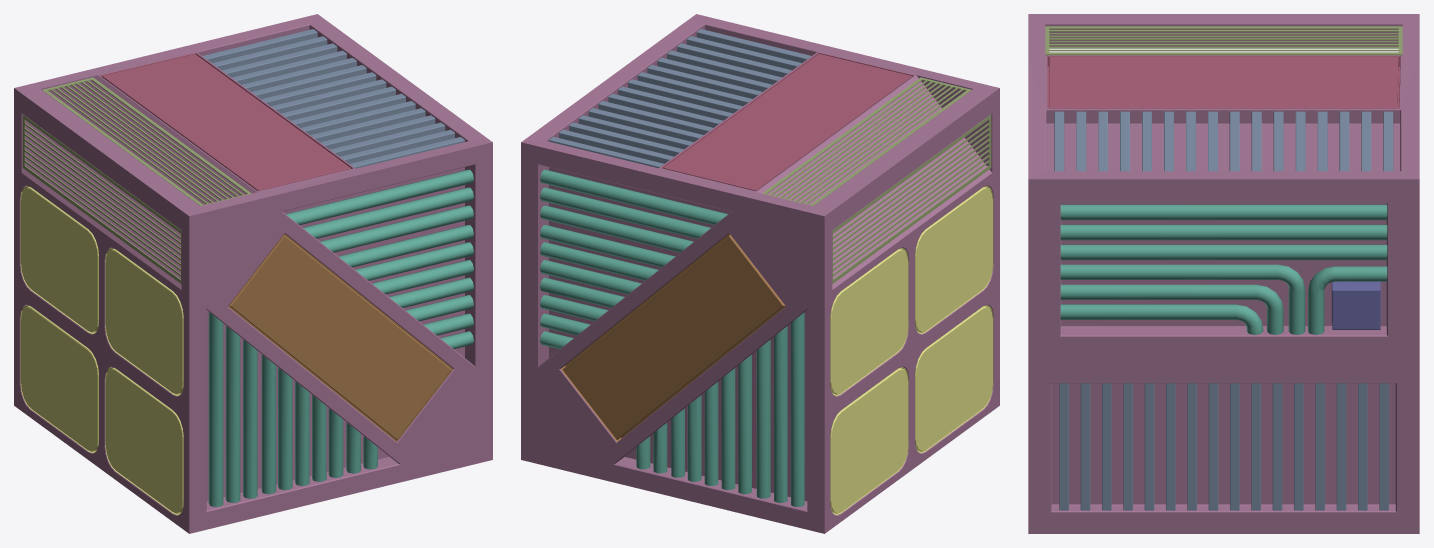
File: obstacle.fbx
3 renders of one model, left to right at view 1: azimuth 30°, elevation 25°; view 2: azimuth 150°, elevation 25°; view 3: azimuth 270°, elevation 25°, orthographic. The views are drawn at different scales.
Parts seen in each view (by area): view 1: obstacle, pipes, panelsQuad, panelsDiagonal, grates, panelsBig, gratesSmall; view 2: obstacle, panelsQuad, pipes, panelsDiagonal, grates, panelsBig, gratesSmall; view 3: obstacle, grates, pipes, panelsBig, gratesSmall, boxSmall.
Boxes of the visible parts, bbox=[...] form: obstacle: bbox=[14, 14, 492, 533]; pipes: bbox=[208, 169, 473, 507]; panelsQuad: bbox=[20, 186, 183, 515]; panelsDiagonal: bbox=[228, 233, 453, 441]; grates: bbox=[202, 29, 464, 168]; panelsBig: bbox=[100, 53, 353, 191]; gratesSmall: bbox=[22, 77, 251, 283]; obstacle: bbox=[521, 14, 999, 533]; panelsQuad: bbox=[830, 186, 993, 515]; pipes: bbox=[540, 169, 804, 506]; panelsDiagonal: bbox=[560, 233, 785, 441]; grates: bbox=[549, 29, 811, 168]; panelsBig: bbox=[661, 52, 913, 191]; gratesSmall: bbox=[762, 77, 991, 283]; obstacle: bbox=[1028, 14, 1419, 533]; grates: bbox=[1054, 111, 1393, 510]; pipes: bbox=[1060, 204, 1387, 334]; panelsBig: bbox=[1047, 56, 1400, 108]; gratesSmall: bbox=[1045, 26, 1402, 55]; boxSmall: bbox=[1332, 281, 1380, 329].
Size of the model in its own units: 2 by 2 by 2.
